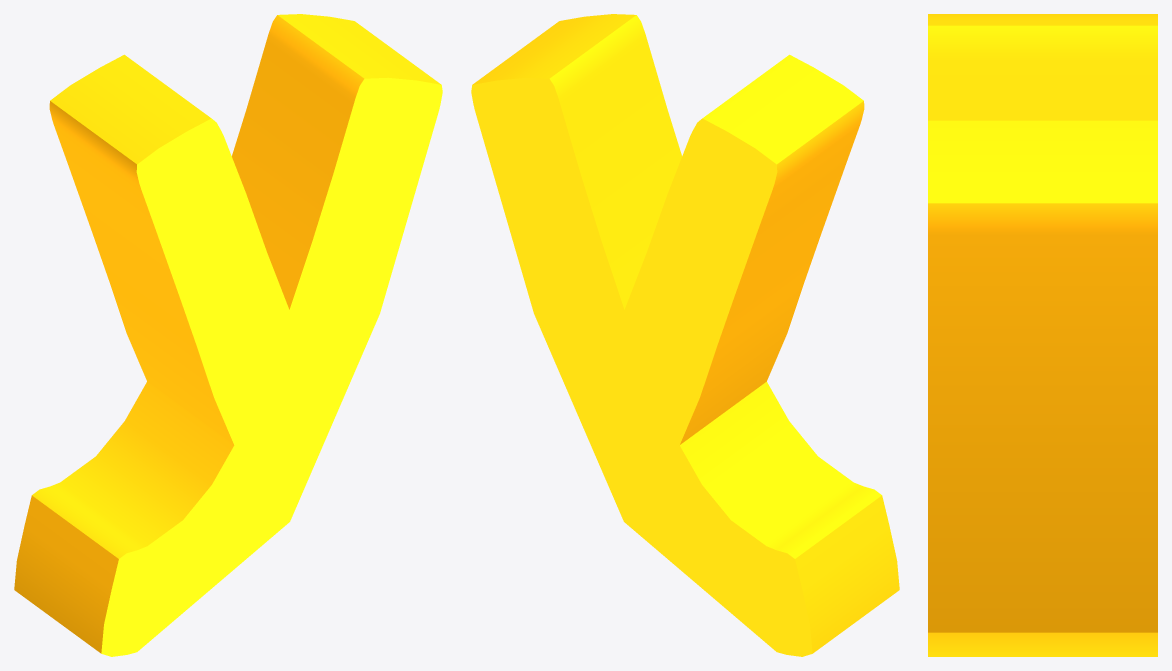
File: Y_Zyzol_Yellow.glb
3 views of the same model, side by side, from view 1: azimuth 30°, elevation 25°; view 2: azimuth 150°, elevation 25°; view 3: azimuth 270°, elevation 25° (orthographic). The views are drawn at different scales.
Parts seen in each view (by area): view 1: y_Zyzol_Yellow; view 2: y_Zyzol_Yellow; view 3: y_Zyzol_Yellow.
Boxes of the visible parts, <box> form: y_Zyzol_Yellow: <box>14,14,442,656</box>; y_Zyzol_Yellow: <box>471,14,899,656</box>; y_Zyzol_Yellow: <box>928,14,1157,656</box>.
Size of what is drawn, in the model's own units: 0.1018 by 0.1476 by 0.045.
Materials: 2 (2 with a texture image).
